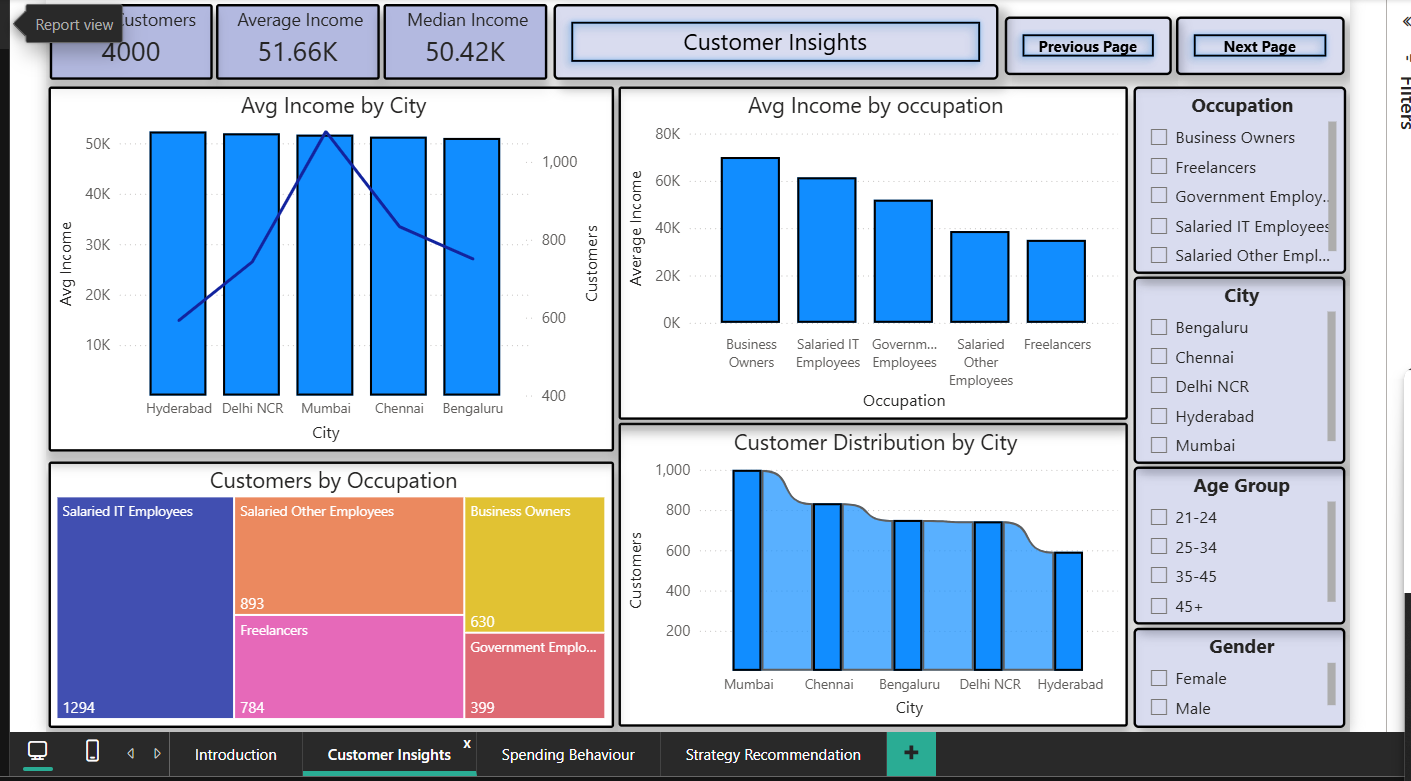

What the dashboard file says about the page in this screenshot:
{"tool":"powerbi","page":{"name":"Customer Insights","canvas":[1280,720],"ordinal":1},"visuals":[{"type":"card","title":"Average Income","fields":{"Values":["Customer Demographics.Avg Income"]},"box":[166.7,5,160.5,74.6],"z":0},{"type":"card","title":"Total Customers","fields":{"Values":["Customer Demographics.Total Customers"]},"box":[3.7,5,160,74.6],"z":1000},{"type":"card","title":"Median Income","fields":{"Values":["Customer Demographics.Median Income"]},"box":[330.9,5,160.5,74.6],"z":2000},{"type":"ribbonChart","title":"Customer Distribution by City","fields":{"Category":["Customer Demographics.city"],"Y":["CountNonNull(Customer Demographics.customer_id)"]},"box":[562.5,416.2,500,298.8],"z":3000},{"type":"treemap","title":"Customers by Occupation","fields":{"Group":["Customer Demographics.occupation"],"Values":["CountNonNull(Customer Demographics.customer_id)"]},"box":[2.9,454.3,555,261.4],"z":4000},{"type":"clusteredColumnChart","fields":{"Category":["Customer Demographics.occupation"],"Y":["Customer Demographics.Avg Income"]},"box":[562.3,85.8,500.1,327.2],"z":5000},{"type":"lineClusteredColumnComboChart","title":"Avg Income by City","fields":{"Category":["Customer Demographics.city"],"Y":["Customer Demographics.Avg Income"],"Y2":["CountNonNull(Customer Demographics.customer_id)"]},"box":[2.9,85.7,555,358.6],"z":6000},{"type":"slicer","title":"City","fields":{"Values":["Customer Demographics.city"]},"box":[1067.3,272.4,207.7,184.1],"z":7000},{"type":"slicer","title":"Age Group","fields":{"Values":["Customer Demographics.age_group"]},"box":[1067.3,459,207.7,155.5],"z":8000},{"type":"slicer","title":"Gender","fields":{"Values":["Customer Demographics.gender"]},"box":[1067.3,617,207.7,98.3],"z":9000},{"type":"slicer","title":"Occupation","fields":{"Values":["Customer Demographics.occupation"]},"box":[1067.3,85.8,209,184.1],"z":10000},{"type":"actionButton","box":[941.7,17.4,164.2,57.2],"z":11000},{"type":"actionButton","box":[1109.6,17.4,165.4,57.2],"z":12000},{"type":"actionButton","box":[497.6,5,436.6,74.6],"z":13000}]}

Visuals, with their boxes in screenshot pixels (x1, y1, x2, y2):
"Average Income" card: left=198, top=0, right=364, bottom=75
"Total Customers" card: left=30, top=0, right=195, bottom=75
"Median Income" card: left=368, top=0, right=534, bottom=75
"Customer Distribution by City" ribbonChart: left=607, top=423, right=1124, bottom=732
"Customers by Occupation" treemap: left=29, top=462, right=603, bottom=733
clusteredColumnChart - Customer Demographics.occupation x Customer Demographics.Avg Income: left=607, top=81, right=1124, bottom=420
"Avg Income by City" lineClusteredColumnComboChart: left=29, top=81, right=603, bottom=452
"City" slicer: left=1129, top=274, right=1344, bottom=465
"Age Group" slicer: left=1129, top=467, right=1344, bottom=628
"Gender" slicer: left=1129, top=631, right=1344, bottom=732
"Occupation" slicer: left=1129, top=81, right=1345, bottom=272
actionButton: left=999, top=11, right=1169, bottom=70
actionButton: left=1173, top=11, right=1344, bottom=70
actionButton: left=540, top=0, right=992, bottom=75
